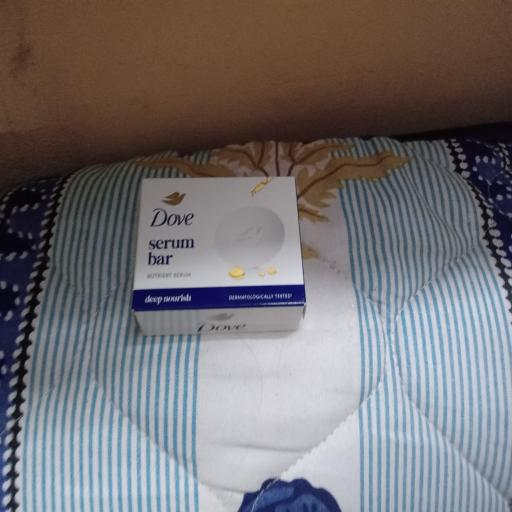Dove`1: (127, 165, 312, 334)
